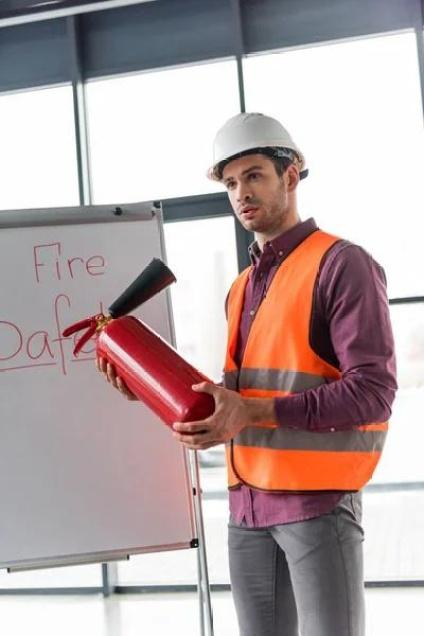APAR: (63, 309, 220, 433)
Whiteboard: (0, 199, 200, 572)
